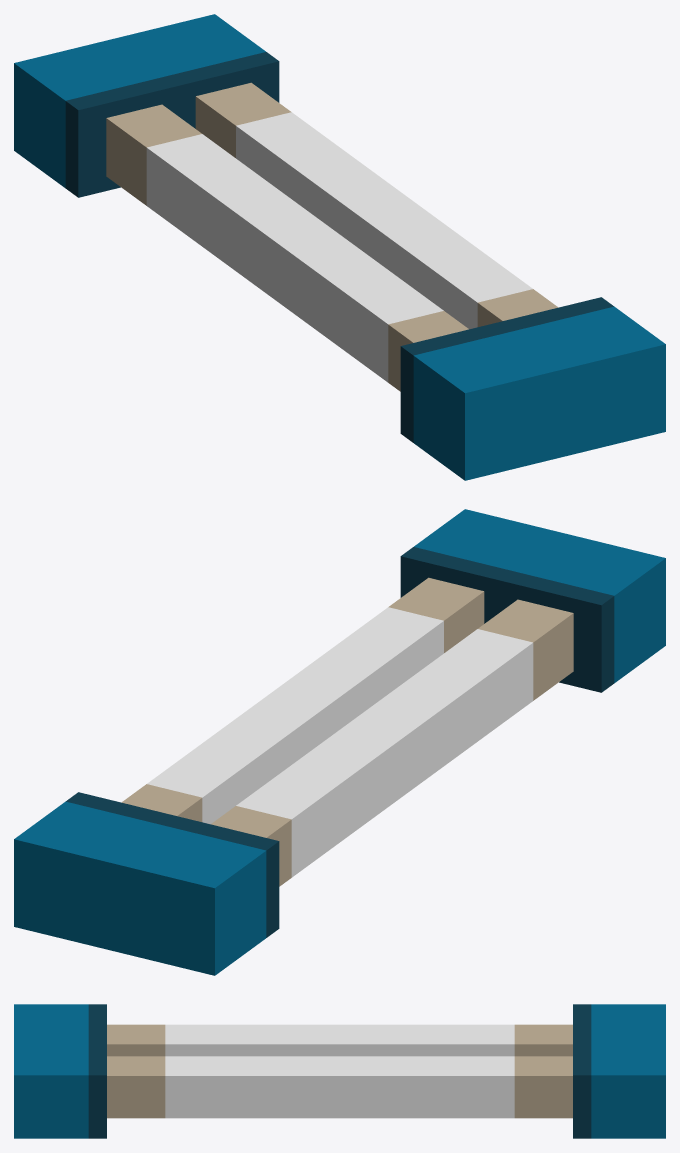
File: G01_012_Light.fbx
The picture shows the model from 3 angles, top to bottom: view 1: azimuth 30°, elevation 25°; view 2: azimuth 150°, elevation 25°; view 3: azimuth 270°, elevation 25°; orthographic projection. The views are drawn at different scales.
Visible parts, largest first — view 1: 立方体.093, 立方体.094, 立方体.100, 003_Light_B; view 2: 003_Light_B, 立方体.094, 立方体.100, 立方体.093; view 3: 立方体.100, 立方体.094, 003_Light_B, 立方体.093.
Part boxes in pixels (x1,y1,x2,y2): 立方体.093: (400,297,665,480); 立方体.094: (106,104,468,391); 立方体.100: (195,82,558,329); 003_Light_B: (14,14,279,197); 003_Light_B: (14,792,279,975); 立方体.094: (211,599,573,886); 立方体.100: (121,577,484,824); 立方体.093: (400,509,665,692); 立方体.100: (107,1056,572,1118); 立方体.094: (107,1024,572,1056); 003_Light_B: (573,1004,665,1138); 立方体.093: (14,1004,106,1138).
Size of the model in its own units: 90 by 37.5 by 350.
